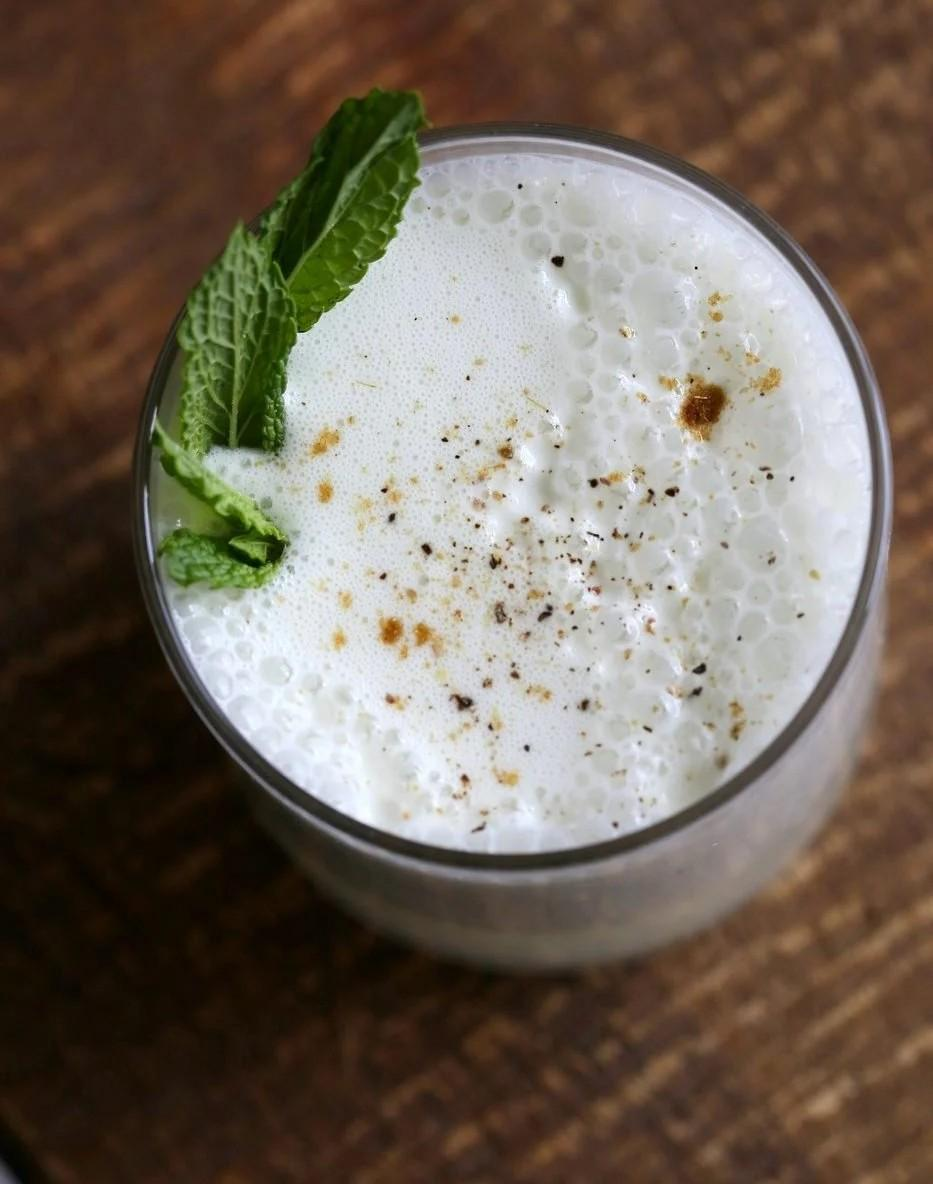Lassi: (162, 153, 875, 853)
